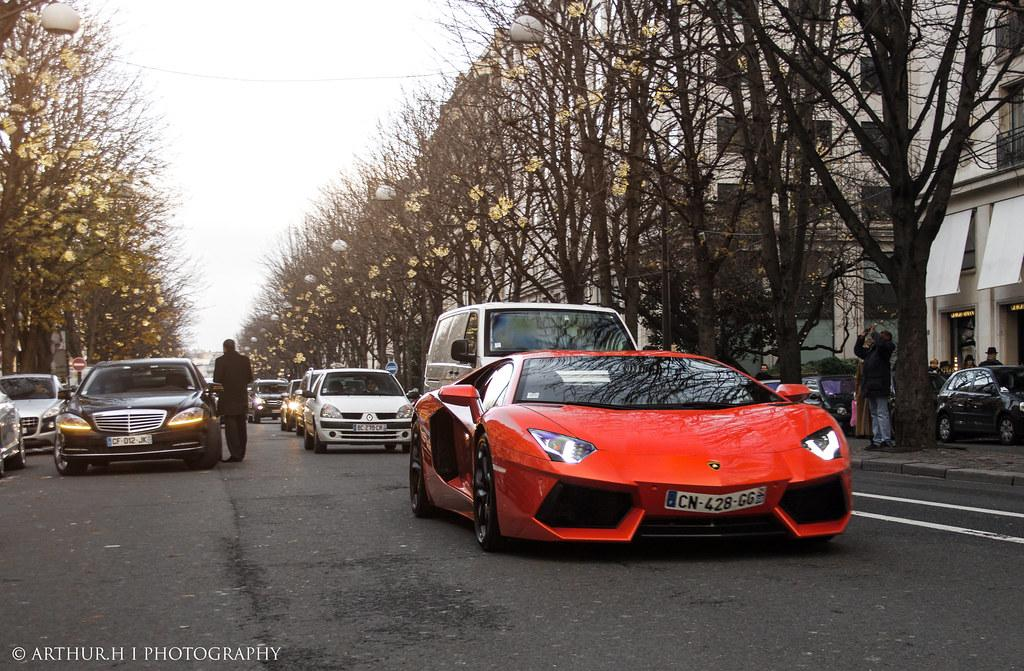car: (409, 349, 853, 552), (54, 358, 223, 476), (302, 368, 415, 454), (935, 365, 1024, 446), (1, 373, 75, 453), (1, 390, 27, 478), (248, 379, 290, 424)
